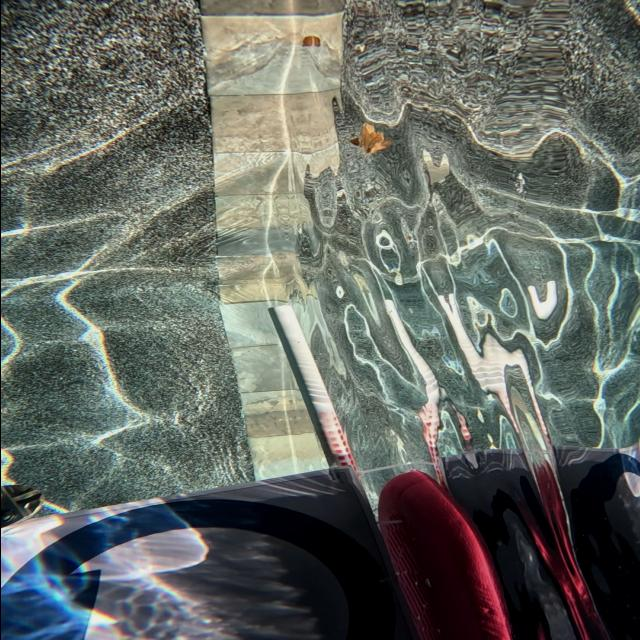blue_side: (0, 502, 398, 640)
